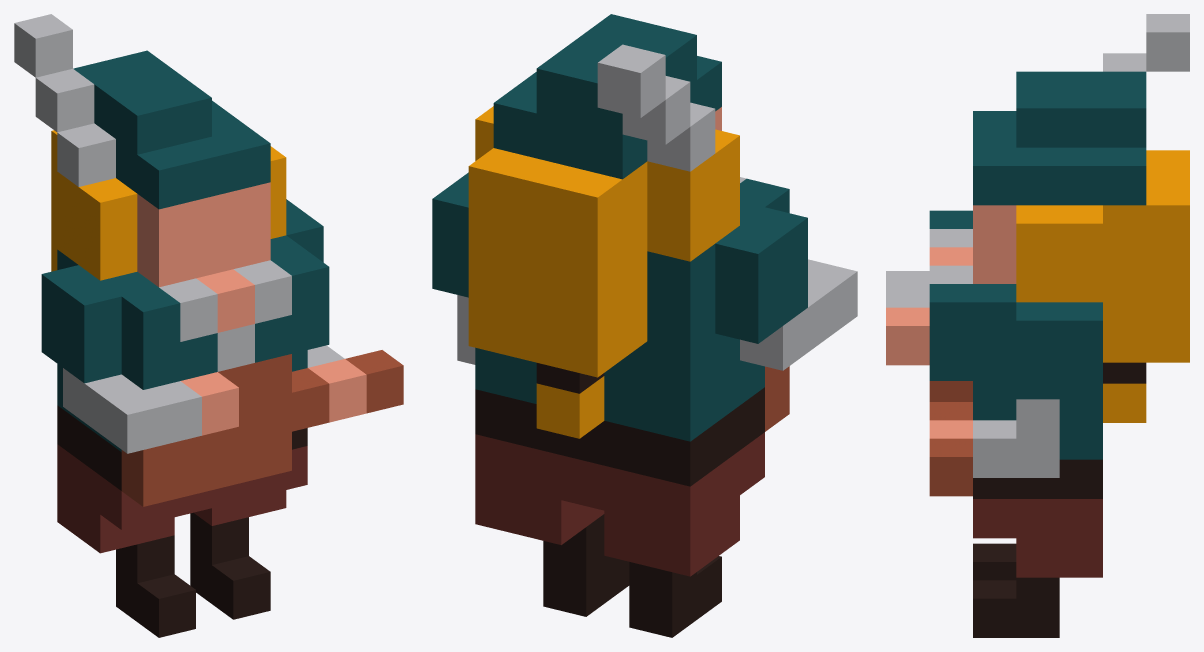
Rendered from bard.obj.
3 renders of one model, left to right at view 1: azimuth 30°, elevation 25°; view 2: azimuth 150°, elevation 25°; view 3: azimuth 270°, elevation 25°, orthographic. The views are drawn at different scales.
Bounding box in the file's own units: 0.8 × 1.4 × 0.7.
Materials: 1 (1 with a texture image).
